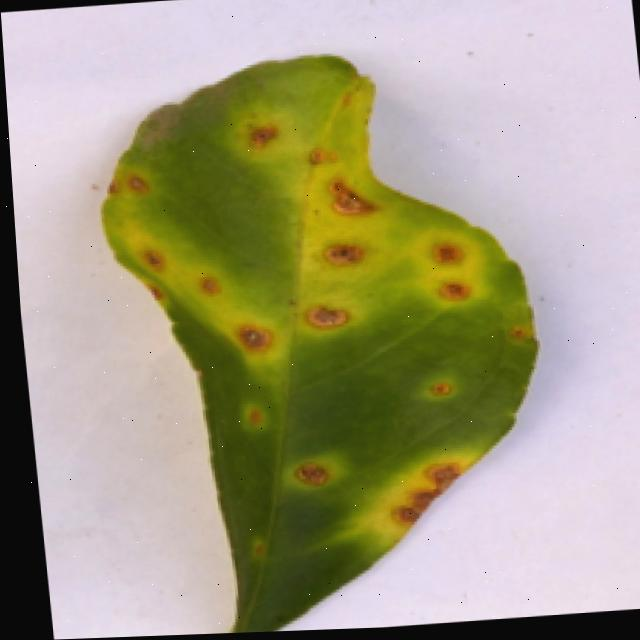canker: (105, 57, 537, 633), (232, 98, 386, 340), (117, 212, 282, 392), (361, 436, 485, 548), (412, 211, 496, 330), (288, 452, 340, 494)
